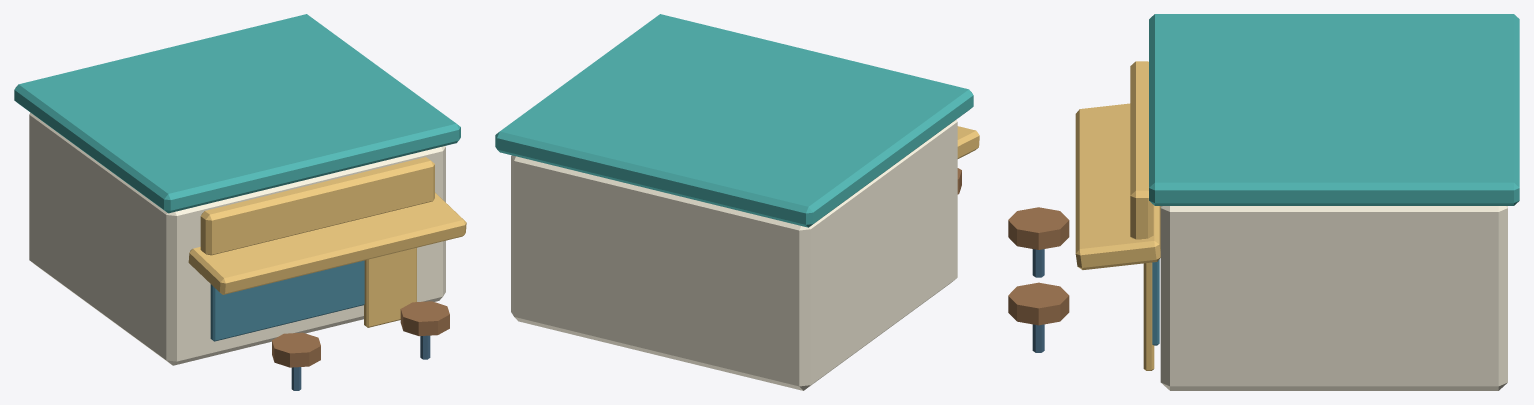
Rendered from COM_LOW_1x1_003.glb.
The picture shows the model from 3 angles, left to right: view 1: azimuth 30°, elevation 25°; view 2: azimuth 150°, elevation 25°; view 3: azimuth 270°, elevation 25°; orthographic projection. The views are drawn at different scales.
Visible parts, largest first — view 1: COM_LOW_1x1_003_Visual; view 2: COM_LOW_1x1_003_Visual; view 3: COM_LOW_1x1_003_Visual.
Part boxes in pixels (bbox=[...]): COM_LOW_1x1_003_Visual: bbox=[14, 14, 466, 390]; COM_LOW_1x1_003_Visual: bbox=[495, 14, 979, 390]; COM_LOW_1x1_003_Visual: bbox=[1008, 14, 1519, 390].
Size of what is drawn, in the model's own units: 1.75 by 1.01 by 2.18.
